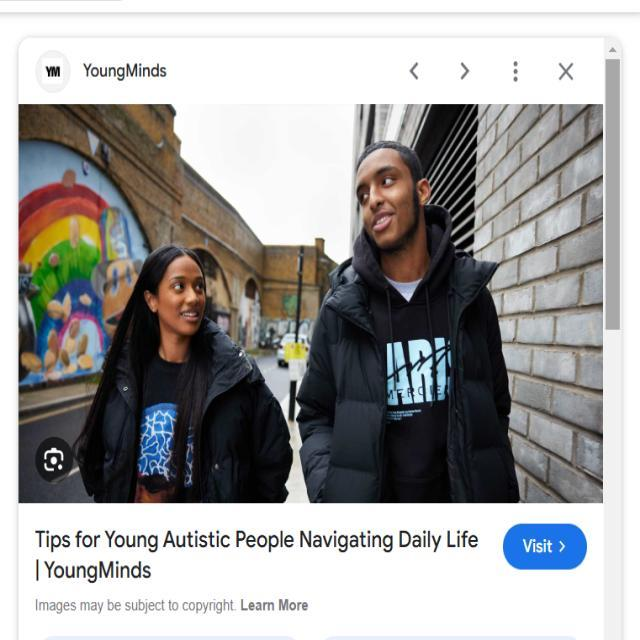face_no_mask: (357, 155, 432, 255), (143, 257, 207, 338)
